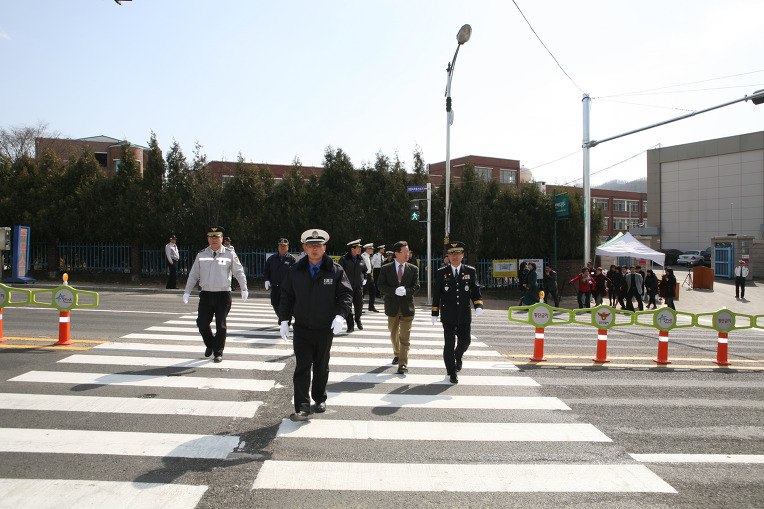traffic_light: (410, 199, 420, 221)
